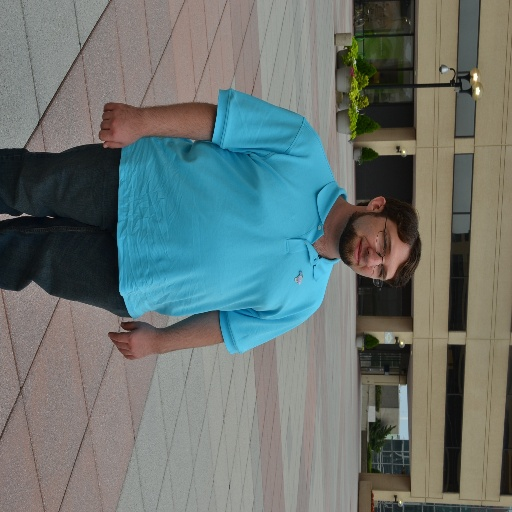hand: (104, 318, 165, 365), (97, 100, 138, 150)
